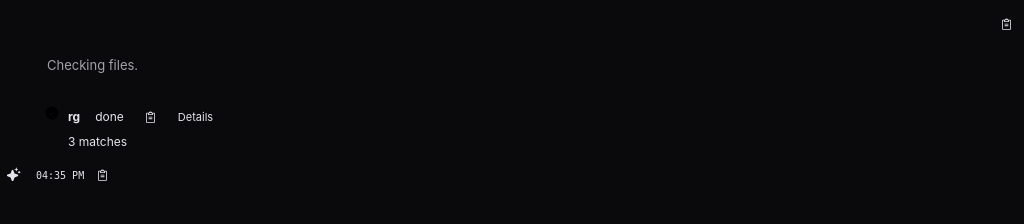
ChatThread message polish › copies assistant tool-card details from hidden tool markup
The image size is (1024, 224).
Click the button named "Copy tool result rg" at (151, 117), box [139,105,163,129]
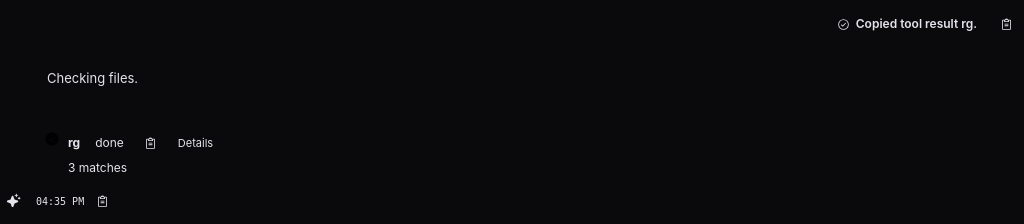
Now the button named "Copied tool result rg" is shown, box [139,131,163,155]
